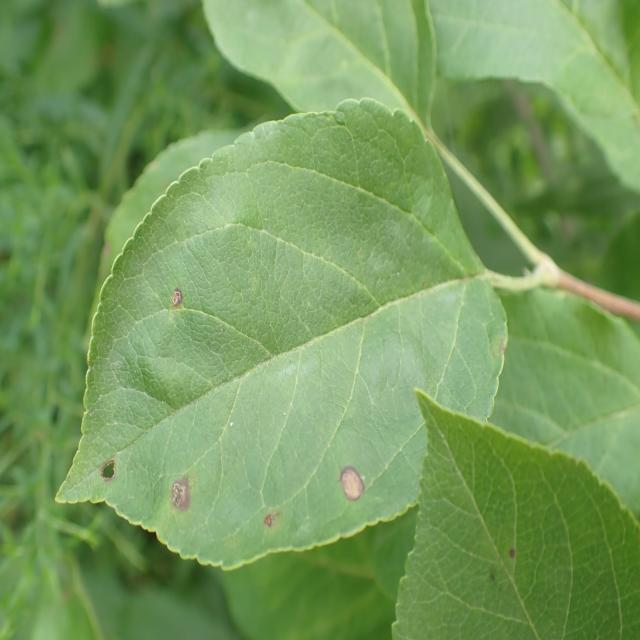Black Rot: (331, 460, 370, 509), (166, 472, 197, 520), (162, 268, 192, 314), (94, 454, 128, 484), (249, 507, 285, 535)
